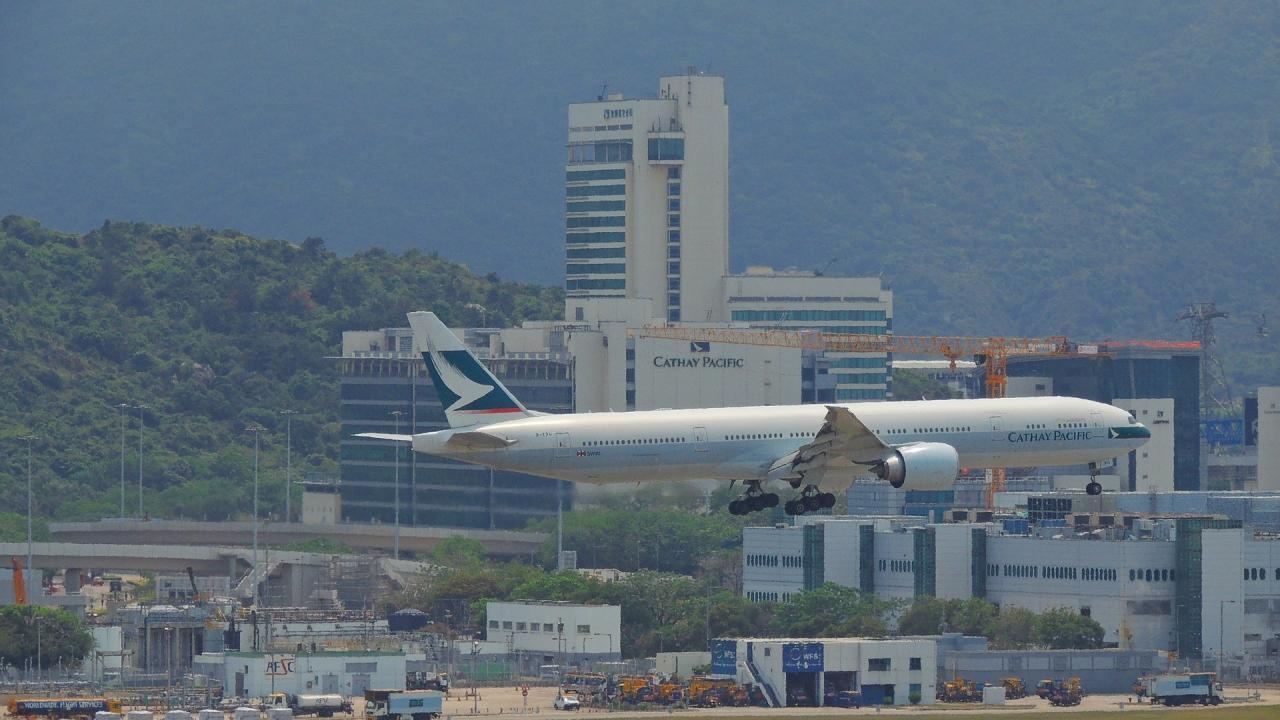Airplane: (343, 292, 1172, 529)
